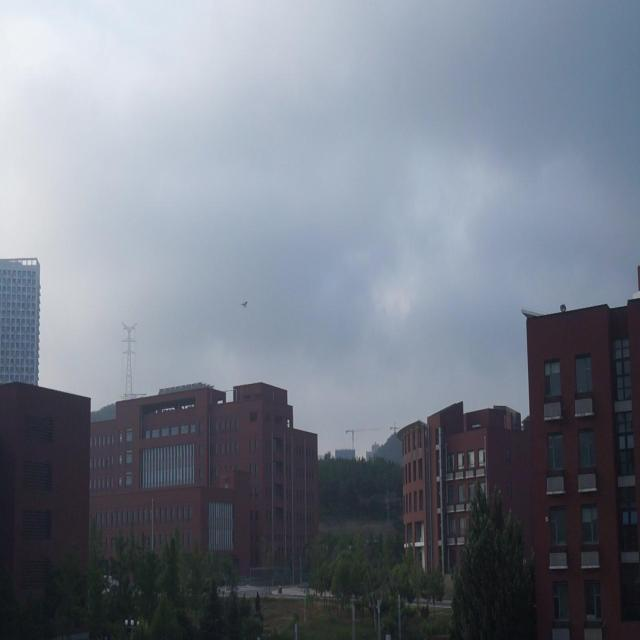drone: (238, 296, 252, 316)
